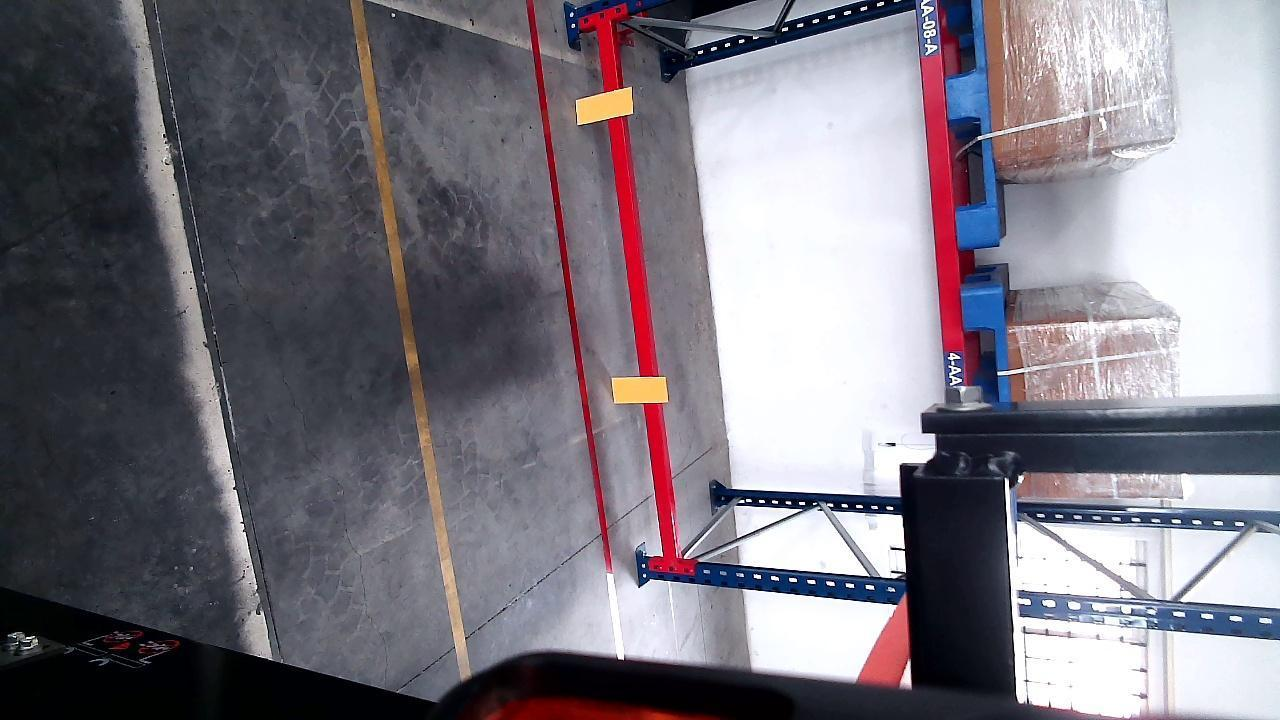h_rack: (600, 10, 677, 585), (921, 1, 964, 392), (1012, 597, 1280, 634)
orange_strip: (575, 86, 632, 124), (612, 375, 667, 403)
red_line: (534, 0, 612, 602)
small_pallet: (941, 0, 998, 241), (963, 285, 1009, 397)
yellow_line: (349, 0, 476, 672)
